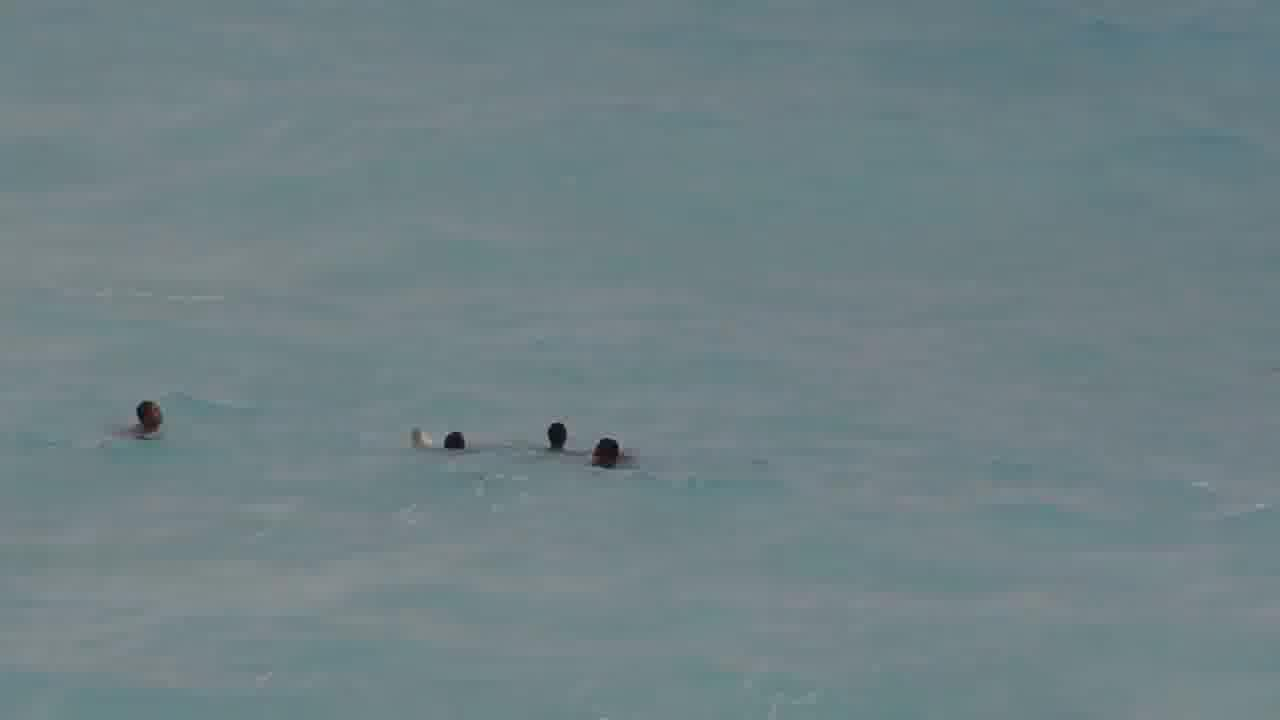human: (429, 416, 480, 475), (120, 396, 174, 439), (586, 430, 632, 473), (535, 412, 580, 454)
